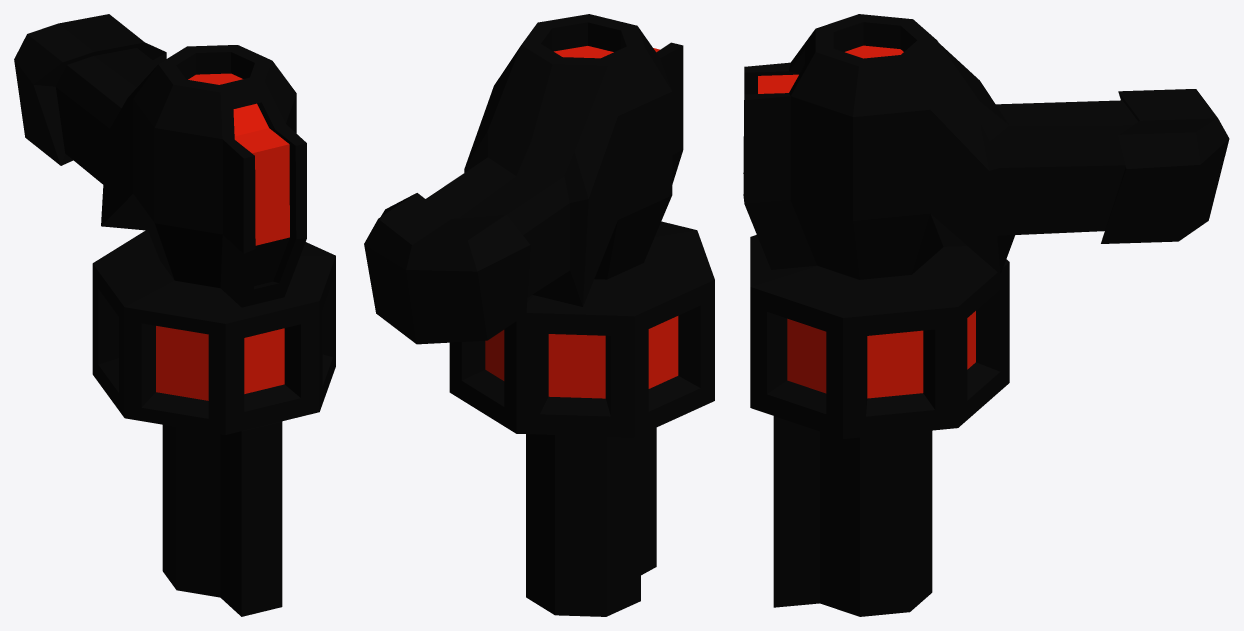
File: Gun.fbx
3 views of the same model, side by side, from view 1: azimuth 30°, elevation 25°; view 2: azimuth 150°, elevation 25°; view 3: azimuth 270°, elevation 25° (orthographic). The views are drawn at different scales.
Parts seen in each view (by area): view 1: Cylinder; view 2: Cylinder; view 3: Cylinder.
Boxes of the visible parts, x1,y1,x2,y2 form: Cylinder: [14, 14, 335, 616]; Cylinder: [364, 14, 714, 616]; Cylinder: [743, 14, 1229, 616].
Bounding box in the file's own units: 450 × 1039 × 822.
